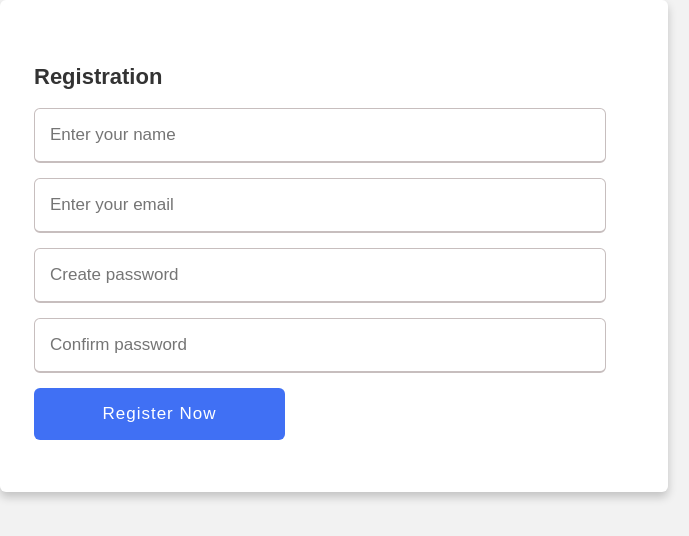
Test: SignUp Component › Submitting sign up form with invalid email
The image size is (689, 536).
// Simulate entering an invalid email
Type "invalidemail" into the field with placeholder "Enter your email" at (320, 206), box left=34, top=178, right=606, bottom=233
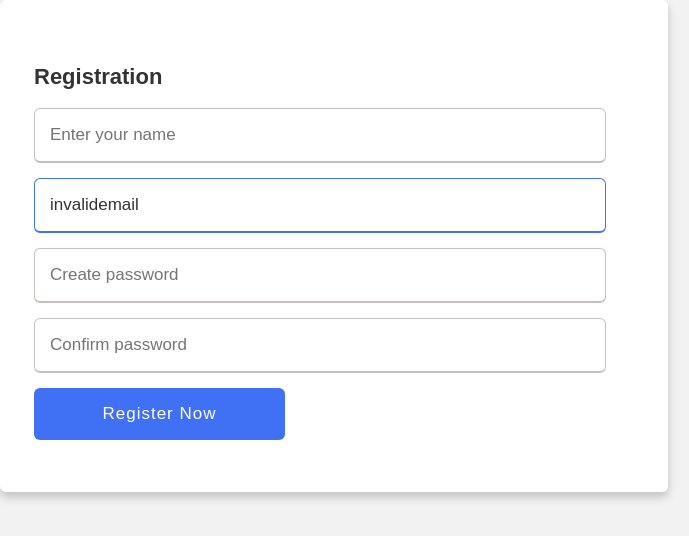
// Simulate clicking the Log In button
Click the 3rd field at (160, 414), box left=34, top=388, right=285, bottom=440
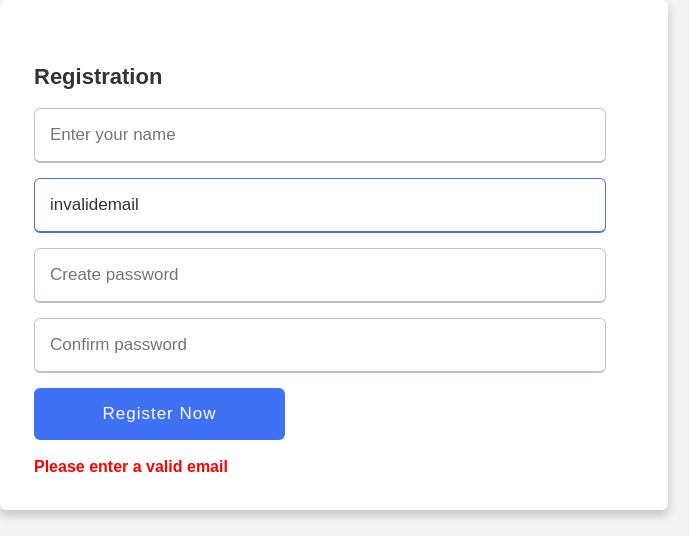
Result: the text "Please enter a valid email" is shown at left=34, top=458, right=228, bottom=475
